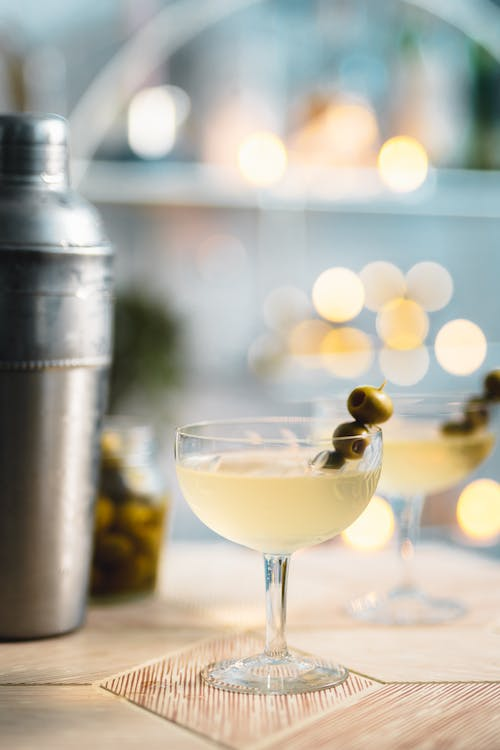alcohol: (171, 415, 384, 697), (314, 394, 496, 628)
